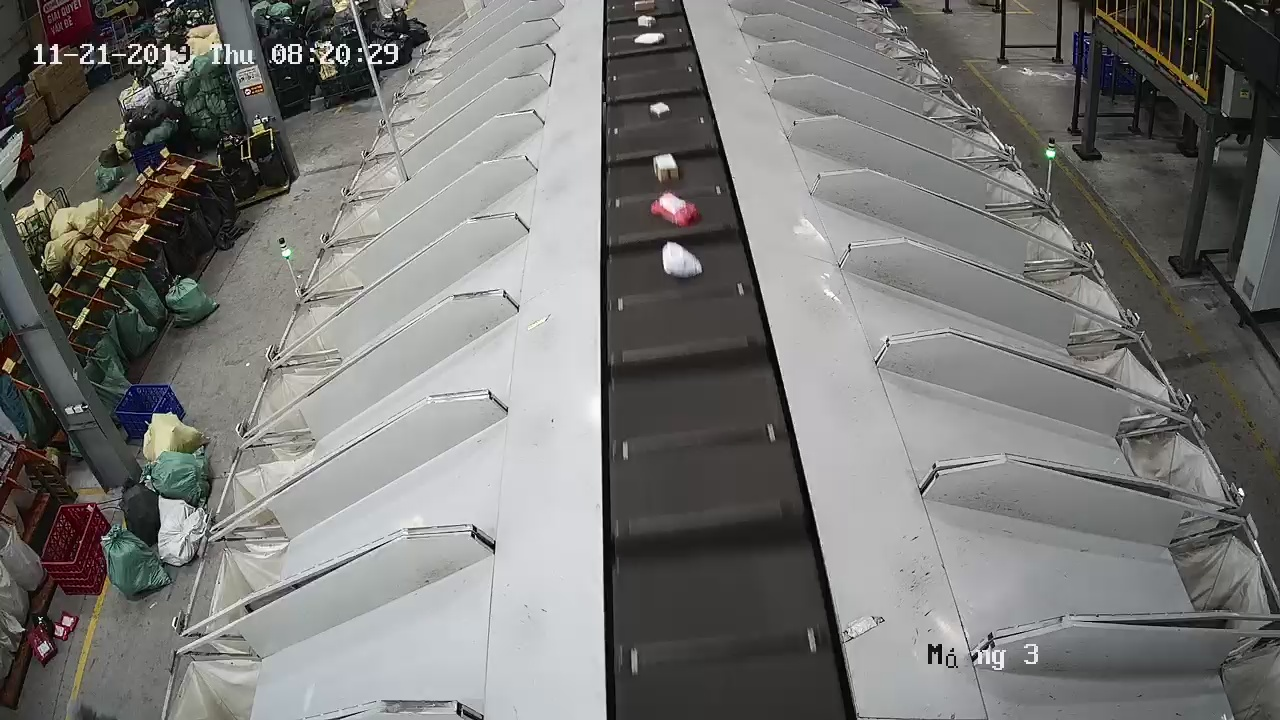parcel: (649, 190, 700, 228), (661, 240, 703, 280), (650, 152, 680, 184)
